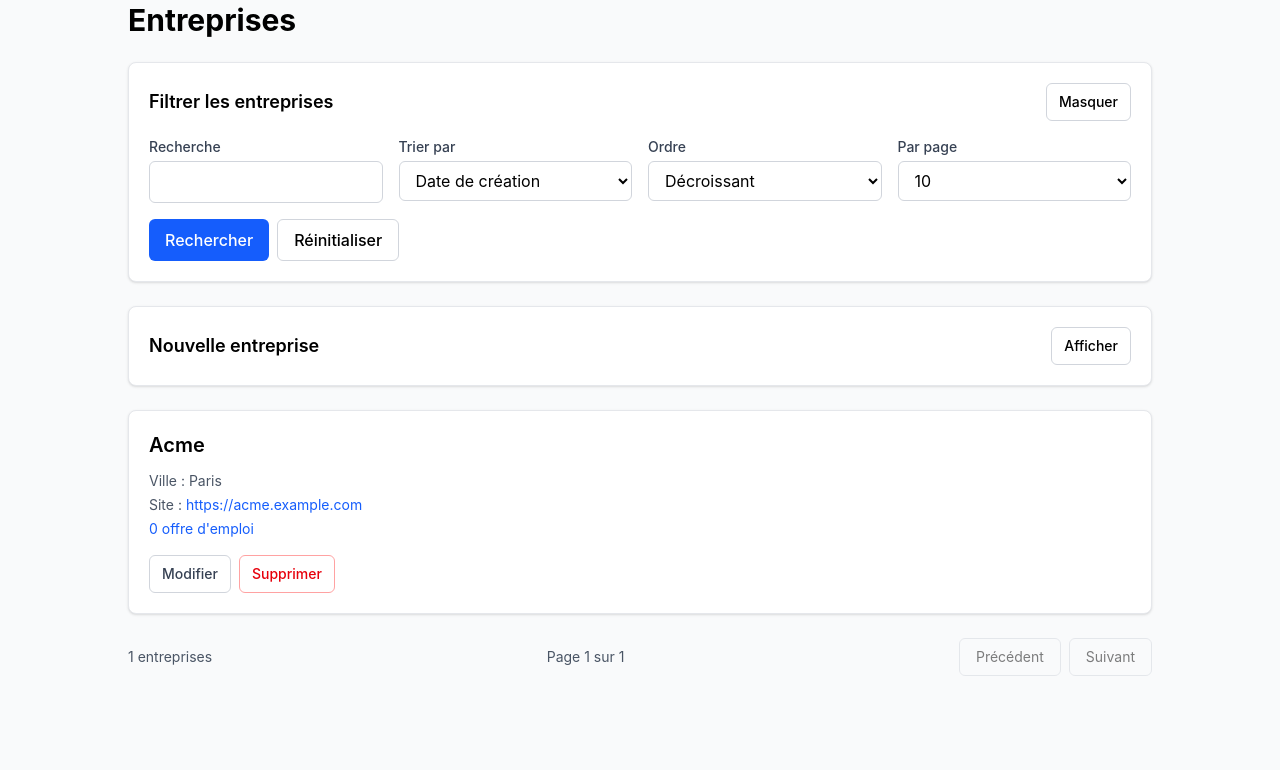
Test: CompaniesPage › updates a company and closes the edit form
Click the button "Modifier" at coordinates (190, 574), box [149,555,231,593]
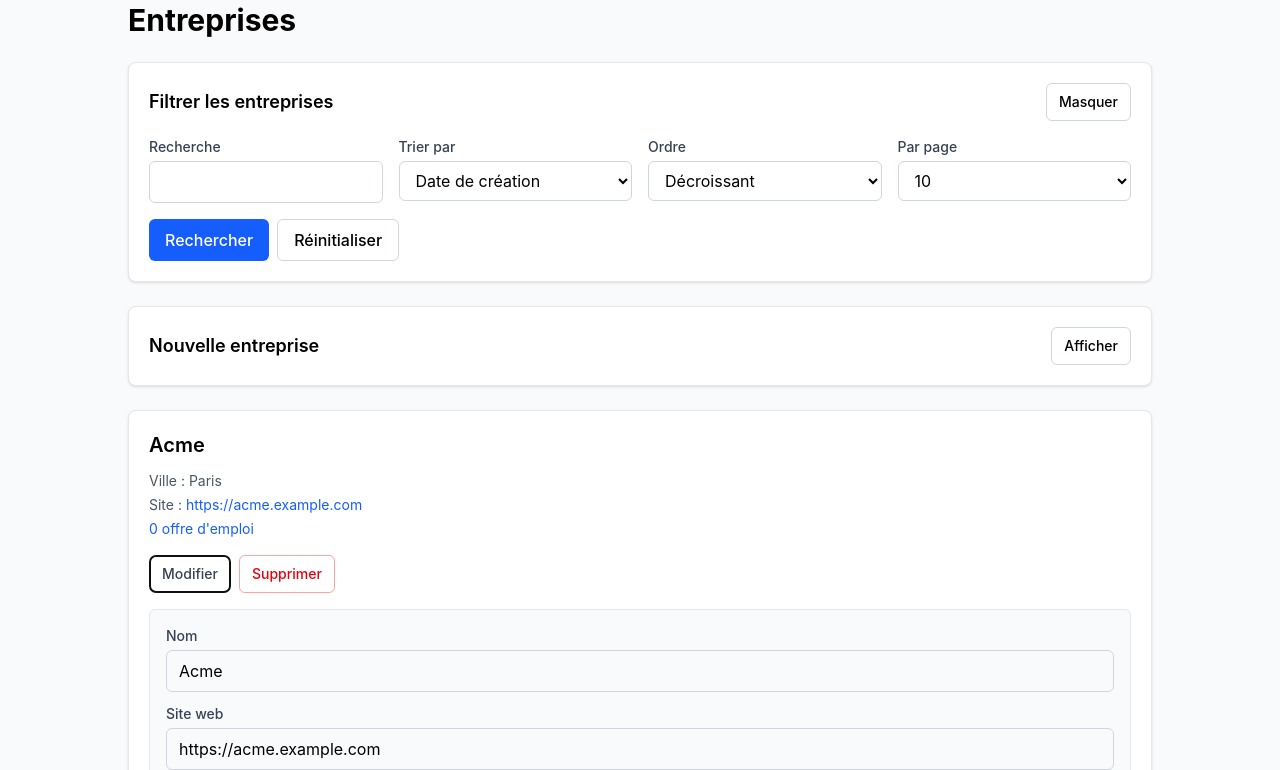
Replace the text in the field labelled "Nom" with "Acme France" at coordinates (640, 671), box [166,650,1114,692]
(page scrolled)
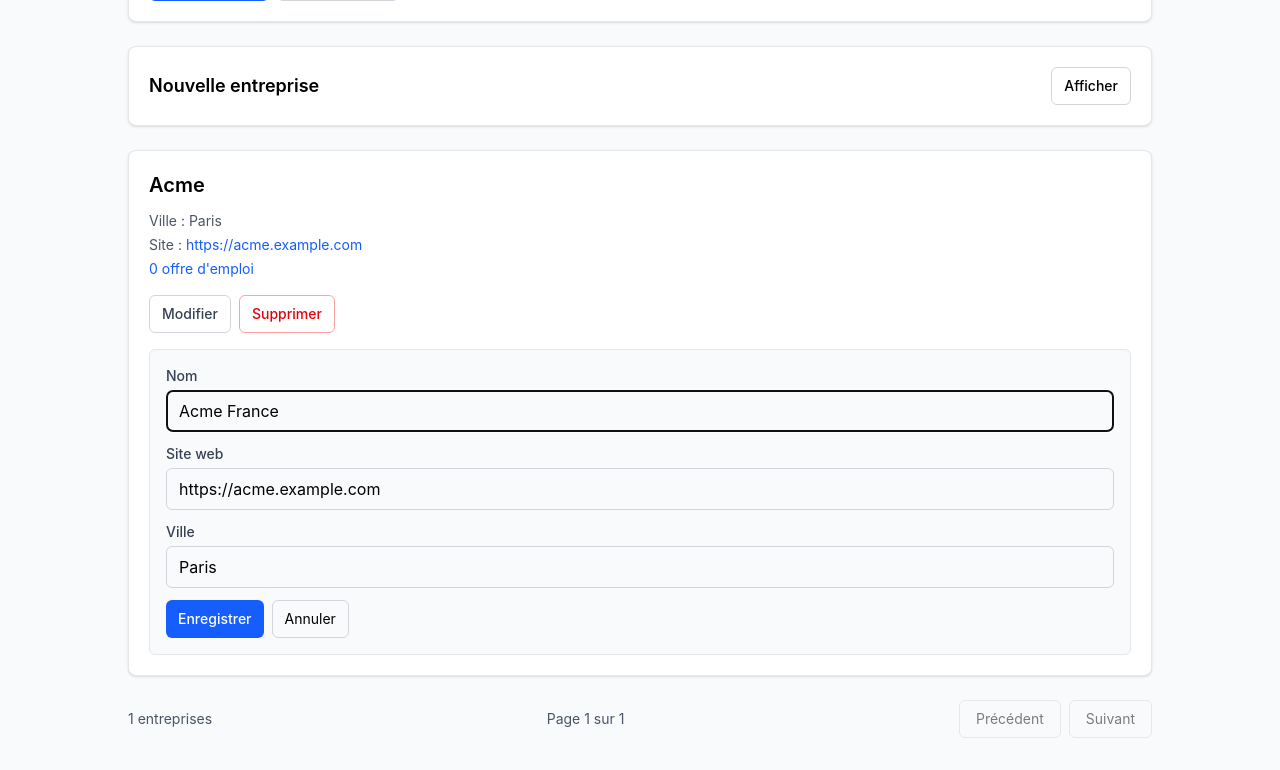
Replace the text in the field labelled "Ville" with "Lyon" at coordinates (640, 567), box [166,546,1114,588]
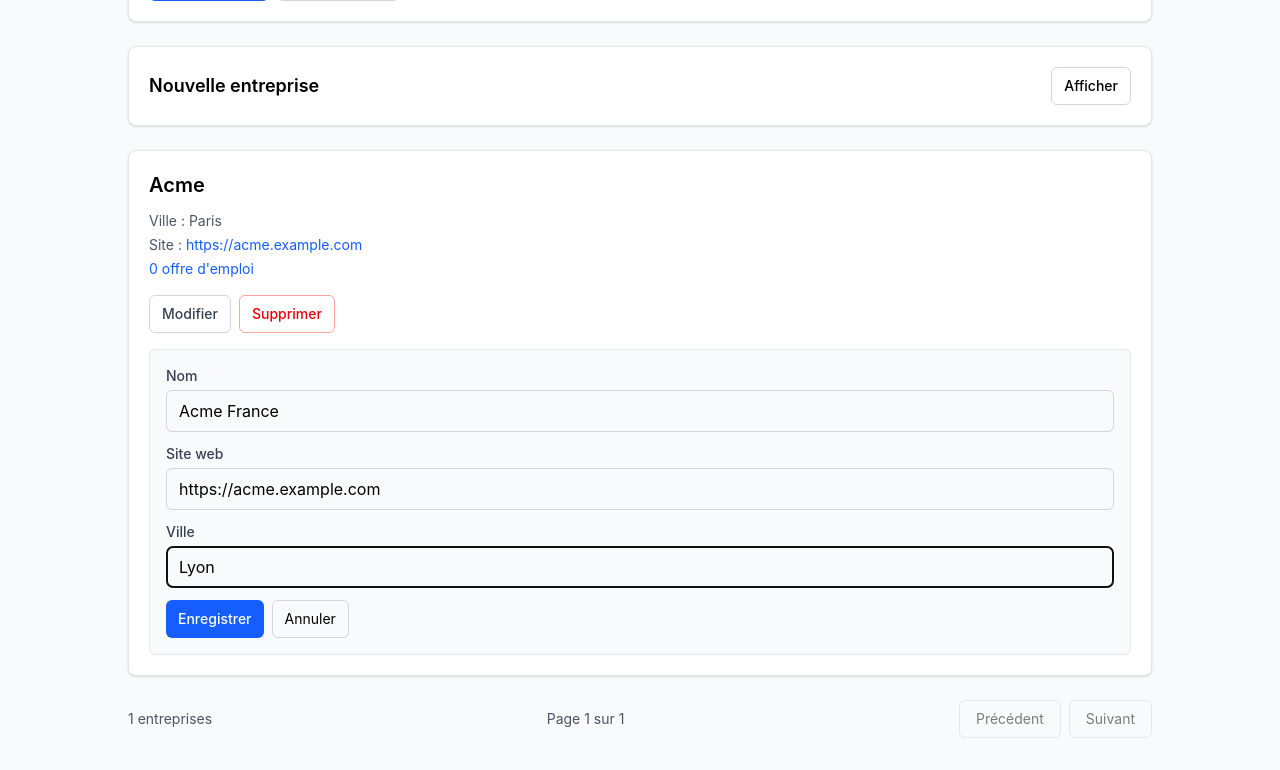
Replace the text in the field labelled "Site web" with "https://fr.acme.example.com" at coordinates (640, 489), box [166,468,1114,510]
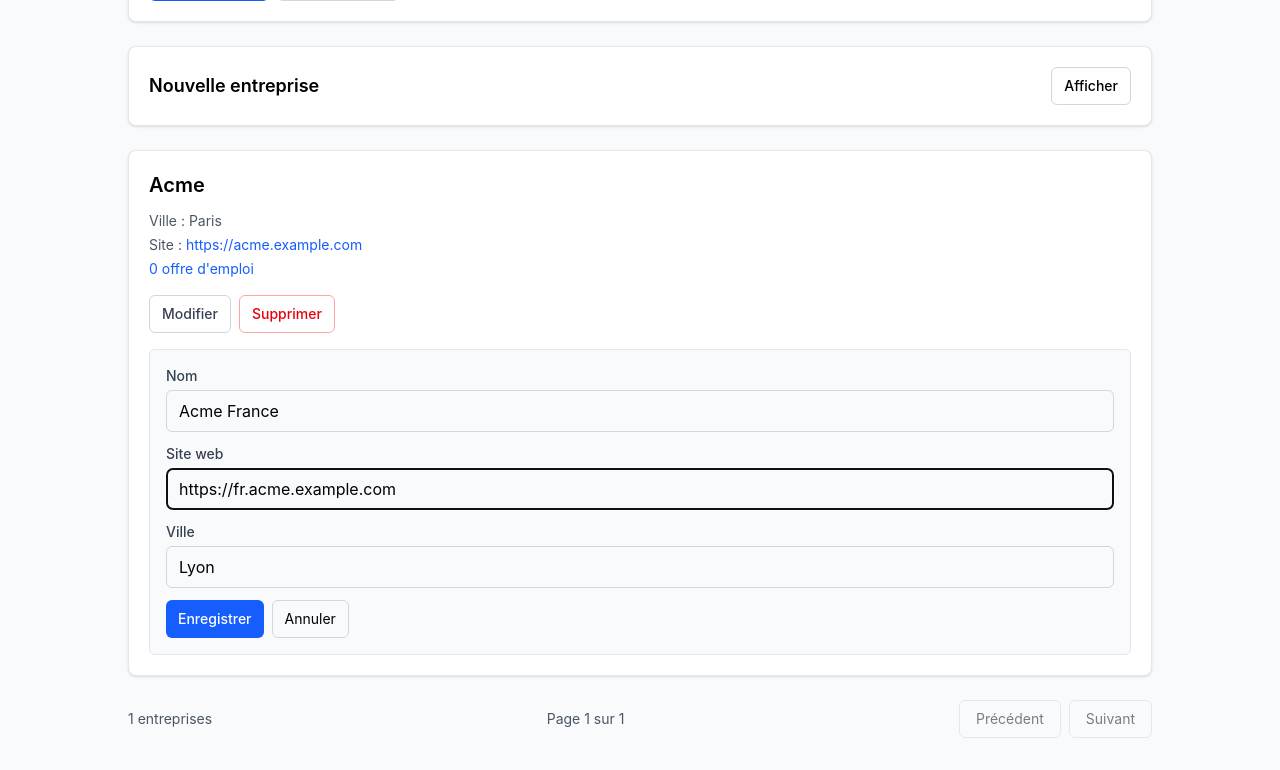
Click the button "Enregistrer" at coordinates (215, 619), box [166,600,264,638]
(page scrolled)
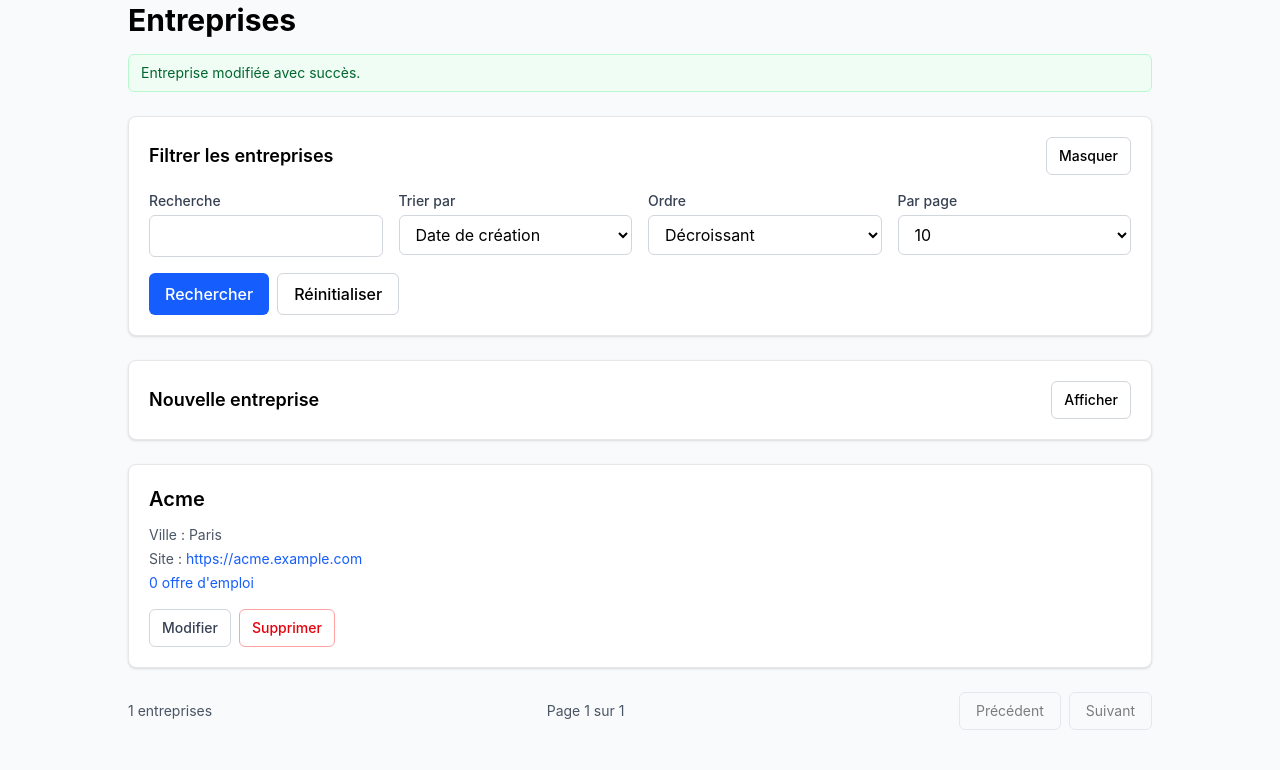
Expected: the button "Annuler" is gone
